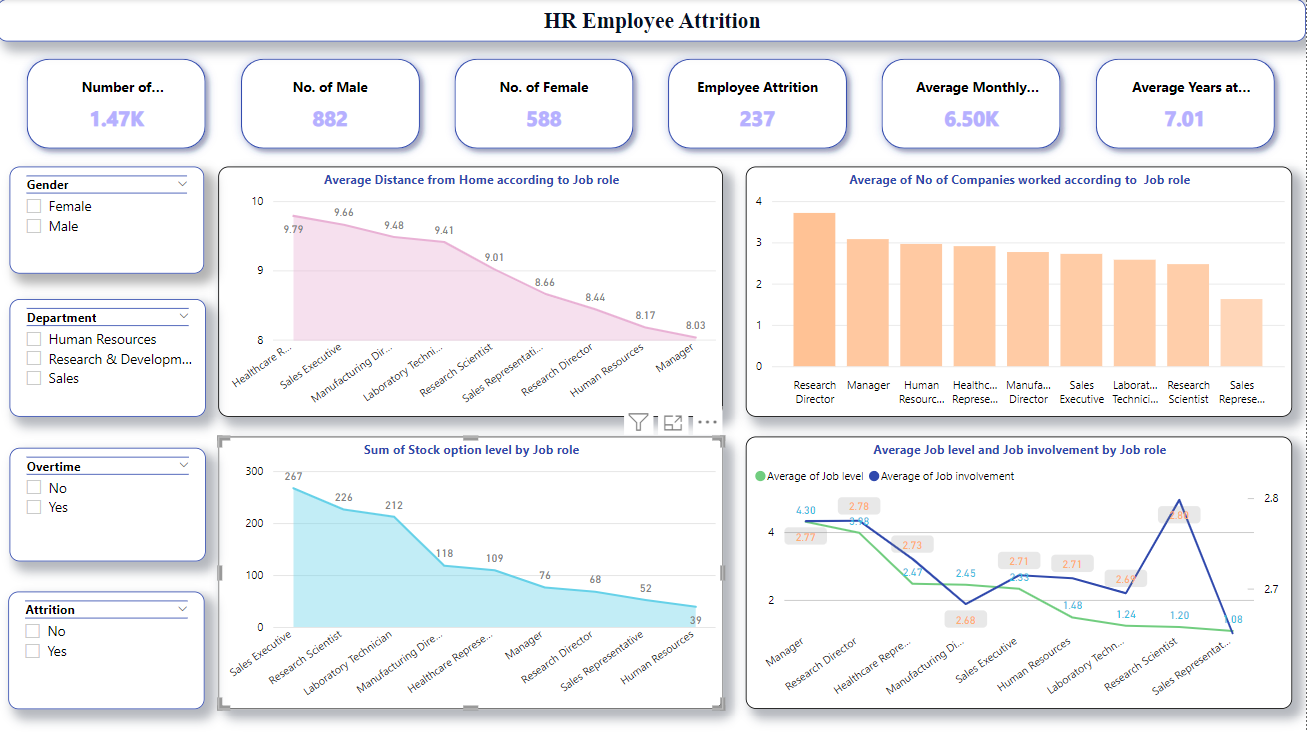

The dashboard page shown, as its layout file describes it:
{"tool":"powerbi","page":{"name":"Page 3","canvas":[1280,720],"ordinal":2},"visuals":[{"type":"cardVisual","fields":{"Data":["Count(HR-Employee-Attrition.S. No.)","HR-Employee-Attrition.No. of Male and Female","HR-Employee-Attrition.No. of Female","HR-Employee-Attrition.Employee who left","Avg(HR-Employee-Attrition.Monthly_Income)","Avg(HR-Employee-Attrition.Years_At_Company)"]},"box":[12.2,41.6,1254.2,122.2],"z":0},{"type":"textbox","box":[0,0,1279.9,41.6],"z":1000},{"type":"slicer","fields":{"Values":["HR-Employee-Attrition.Gender"]},"box":[12.2,163.8,190.7,105.1],"z":2000},{"type":"slicer","fields":{"Values":["HR-Employee-Attrition.Department"]},"box":[12.2,293.4,191.9,114.9],"z":3000},{"type":"slicer","fields":{"Values":["HR-Employee-Attrition.Overtime"]},"box":[12.2,438.8,191.9,111.2],"z":4000},{"type":"slicer","fields":{"Values":["HR-Employee-Attrition.Attrition"]},"box":[11,579.4,191.9,114.9],"z":5000},{"type":"areaChart","title":"Average Distance from Home according to Job role","fields":{"Y":["Avg(HR-Employee-Attrition.Distance_From_Home)"],"Category":["HR-Employee-Attrition.Job_Role"]},"box":[216.4,163.8,493.9,244.5],"z":6000},{"type":"clusteredColumnChart","title":"Average of No of Companies worked according to  Job role","fields":{"Y":["Avg(HR-Employee-Attrition.No_of_Companies_Worked)"],"Category":["HR-Employee-Attrition.Job_Role"]},"box":[732.2,163.8,534.2,244.5],"z":7000},{"type":"areaChart","title":"Sum of Stock option level by Job role","fields":{"Y":["Sum(HR-Employee-Attrition.Stock_Option_Level)"],"Category":["HR-Employee-Attrition.Job_Role"]},"box":[216.4,427.8,493.9,266.5],"z":8000},{"type":"lineChart","title":"Average Job level and Job involvement by Job role","fields":{"Y":["Avg(HR-Employee-Attrition.Job_Level)"],"Y2":["Avg(HR-Employee-Attrition.Job_Involvement)"],"Category":["HR-Employee-Attrition.Job_Role"]},"box":[732.2,427.8,534.2,266.5],"z":9000}]}

Visuals, with their boxes in screenshot pixels (x1, y1, x2, y2), scaled from the page's 1280x720 canvas onto the 1307x732 screenshot:
cardVisual - Count(HR-Employee-Attrition.S. No.) x HR-Employee-Attrition.No. of Male and Female: {"x1": 12, "y1": 42, "x2": 1293, "y2": 167}
textbox: {"x1": 0, "y1": 0, "x2": 1306, "y2": 42}
slicer - HR-Employee-Attrition.Gender: {"x1": 12, "y1": 167, "x2": 207, "y2": 273}
slicer - HR-Employee-Attrition.Department: {"x1": 12, "y1": 298, "x2": 208, "y2": 415}
slicer - HR-Employee-Attrition.Overtime: {"x1": 12, "y1": 446, "x2": 208, "y2": 559}
slicer - HR-Employee-Attrition.Attrition: {"x1": 11, "y1": 589, "x2": 207, "y2": 706}
"Average Distance from Home according to Job role" areaChart: {"x1": 221, "y1": 167, "x2": 725, "y2": 415}
"Average of No of Companies worked according to  Job role" clusteredColumnChart: {"x1": 748, "y1": 167, "x2": 1293, "y2": 415}
"Sum of Stock option level by Job role" areaChart: {"x1": 221, "y1": 435, "x2": 725, "y2": 706}
"Average Job level and Job involvement by Job role" lineChart: {"x1": 748, "y1": 435, "x2": 1293, "y2": 706}
